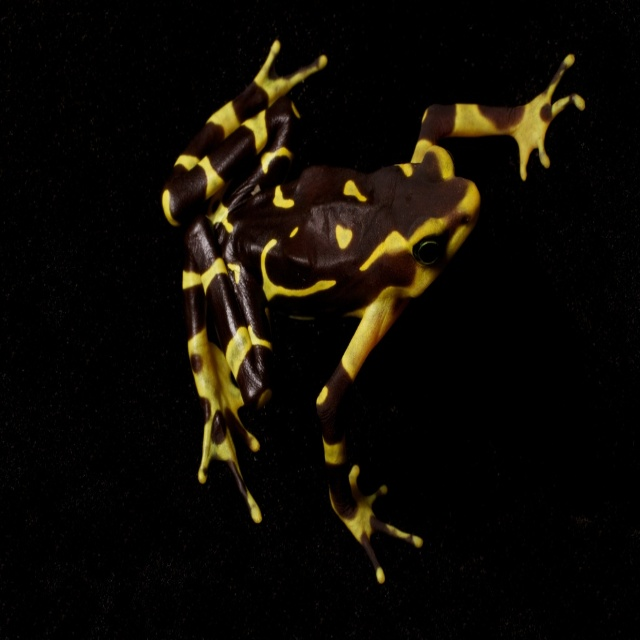Frog: (162, 40, 586, 585)
